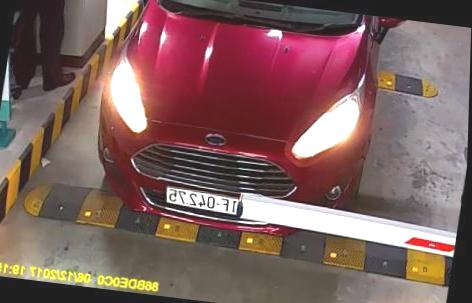License_Plate: (156, 187, 247, 223)
